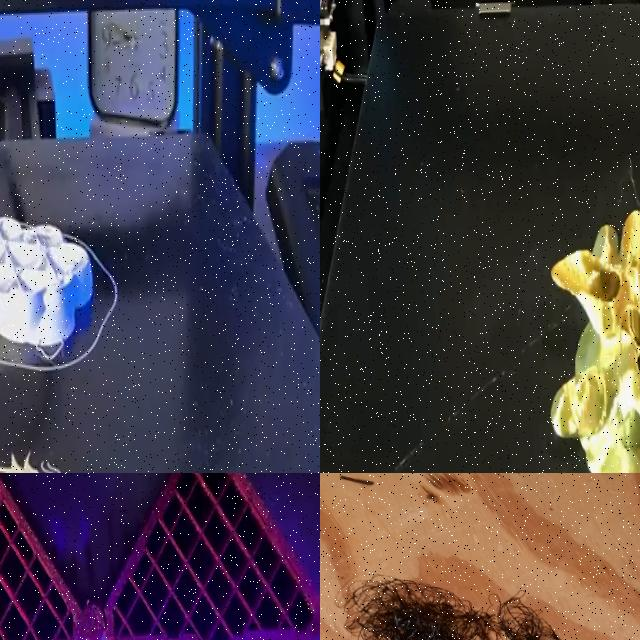spaghetti: (320, 567, 581, 640)
